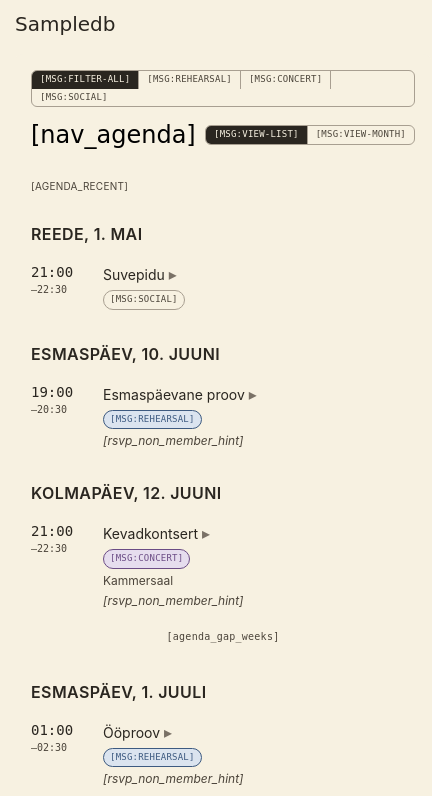
it: #247 — SCOPE (Gama ruling): month mode consumes `items` ONLY, never recentItems › recentItems are absent from month mode even when supplied — no Recent section, no recent rows
Click the button "[msg:view-month]" at (361, 135), box [308,126,414,144]
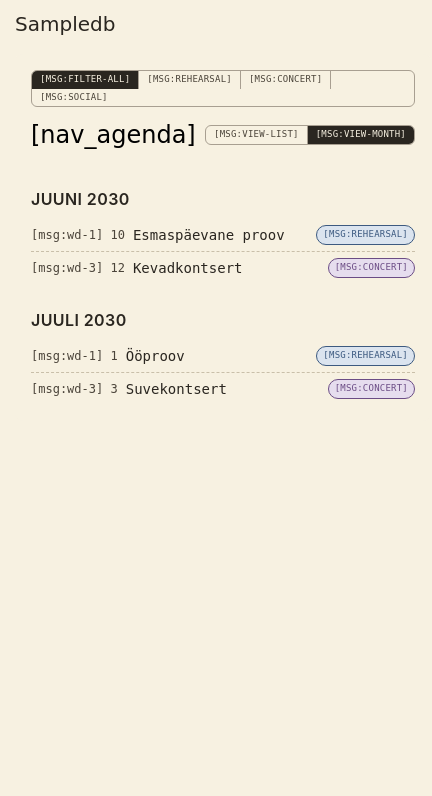
Expected: the element with test id "agenda-recent" is gone
Expected: the heading with test id "agenda-recent-header" is gone
